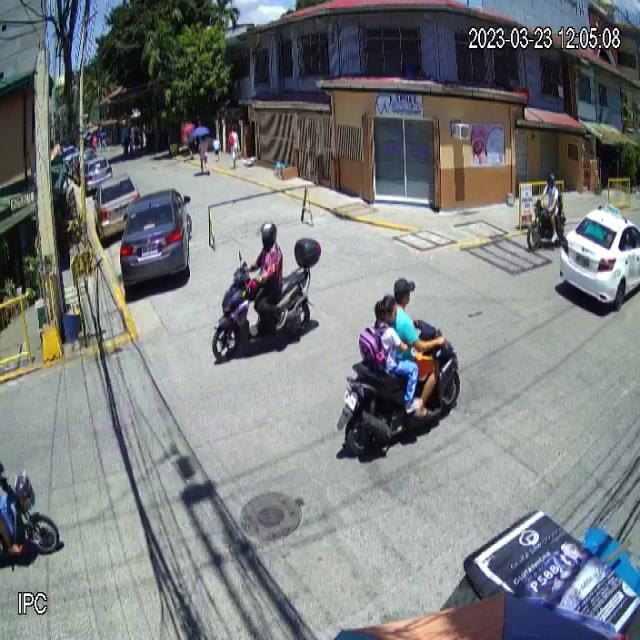Car: (559, 201, 640, 308), (120, 191, 193, 291)
Motorcycle: (335, 318, 463, 458), (211, 237, 322, 361)
